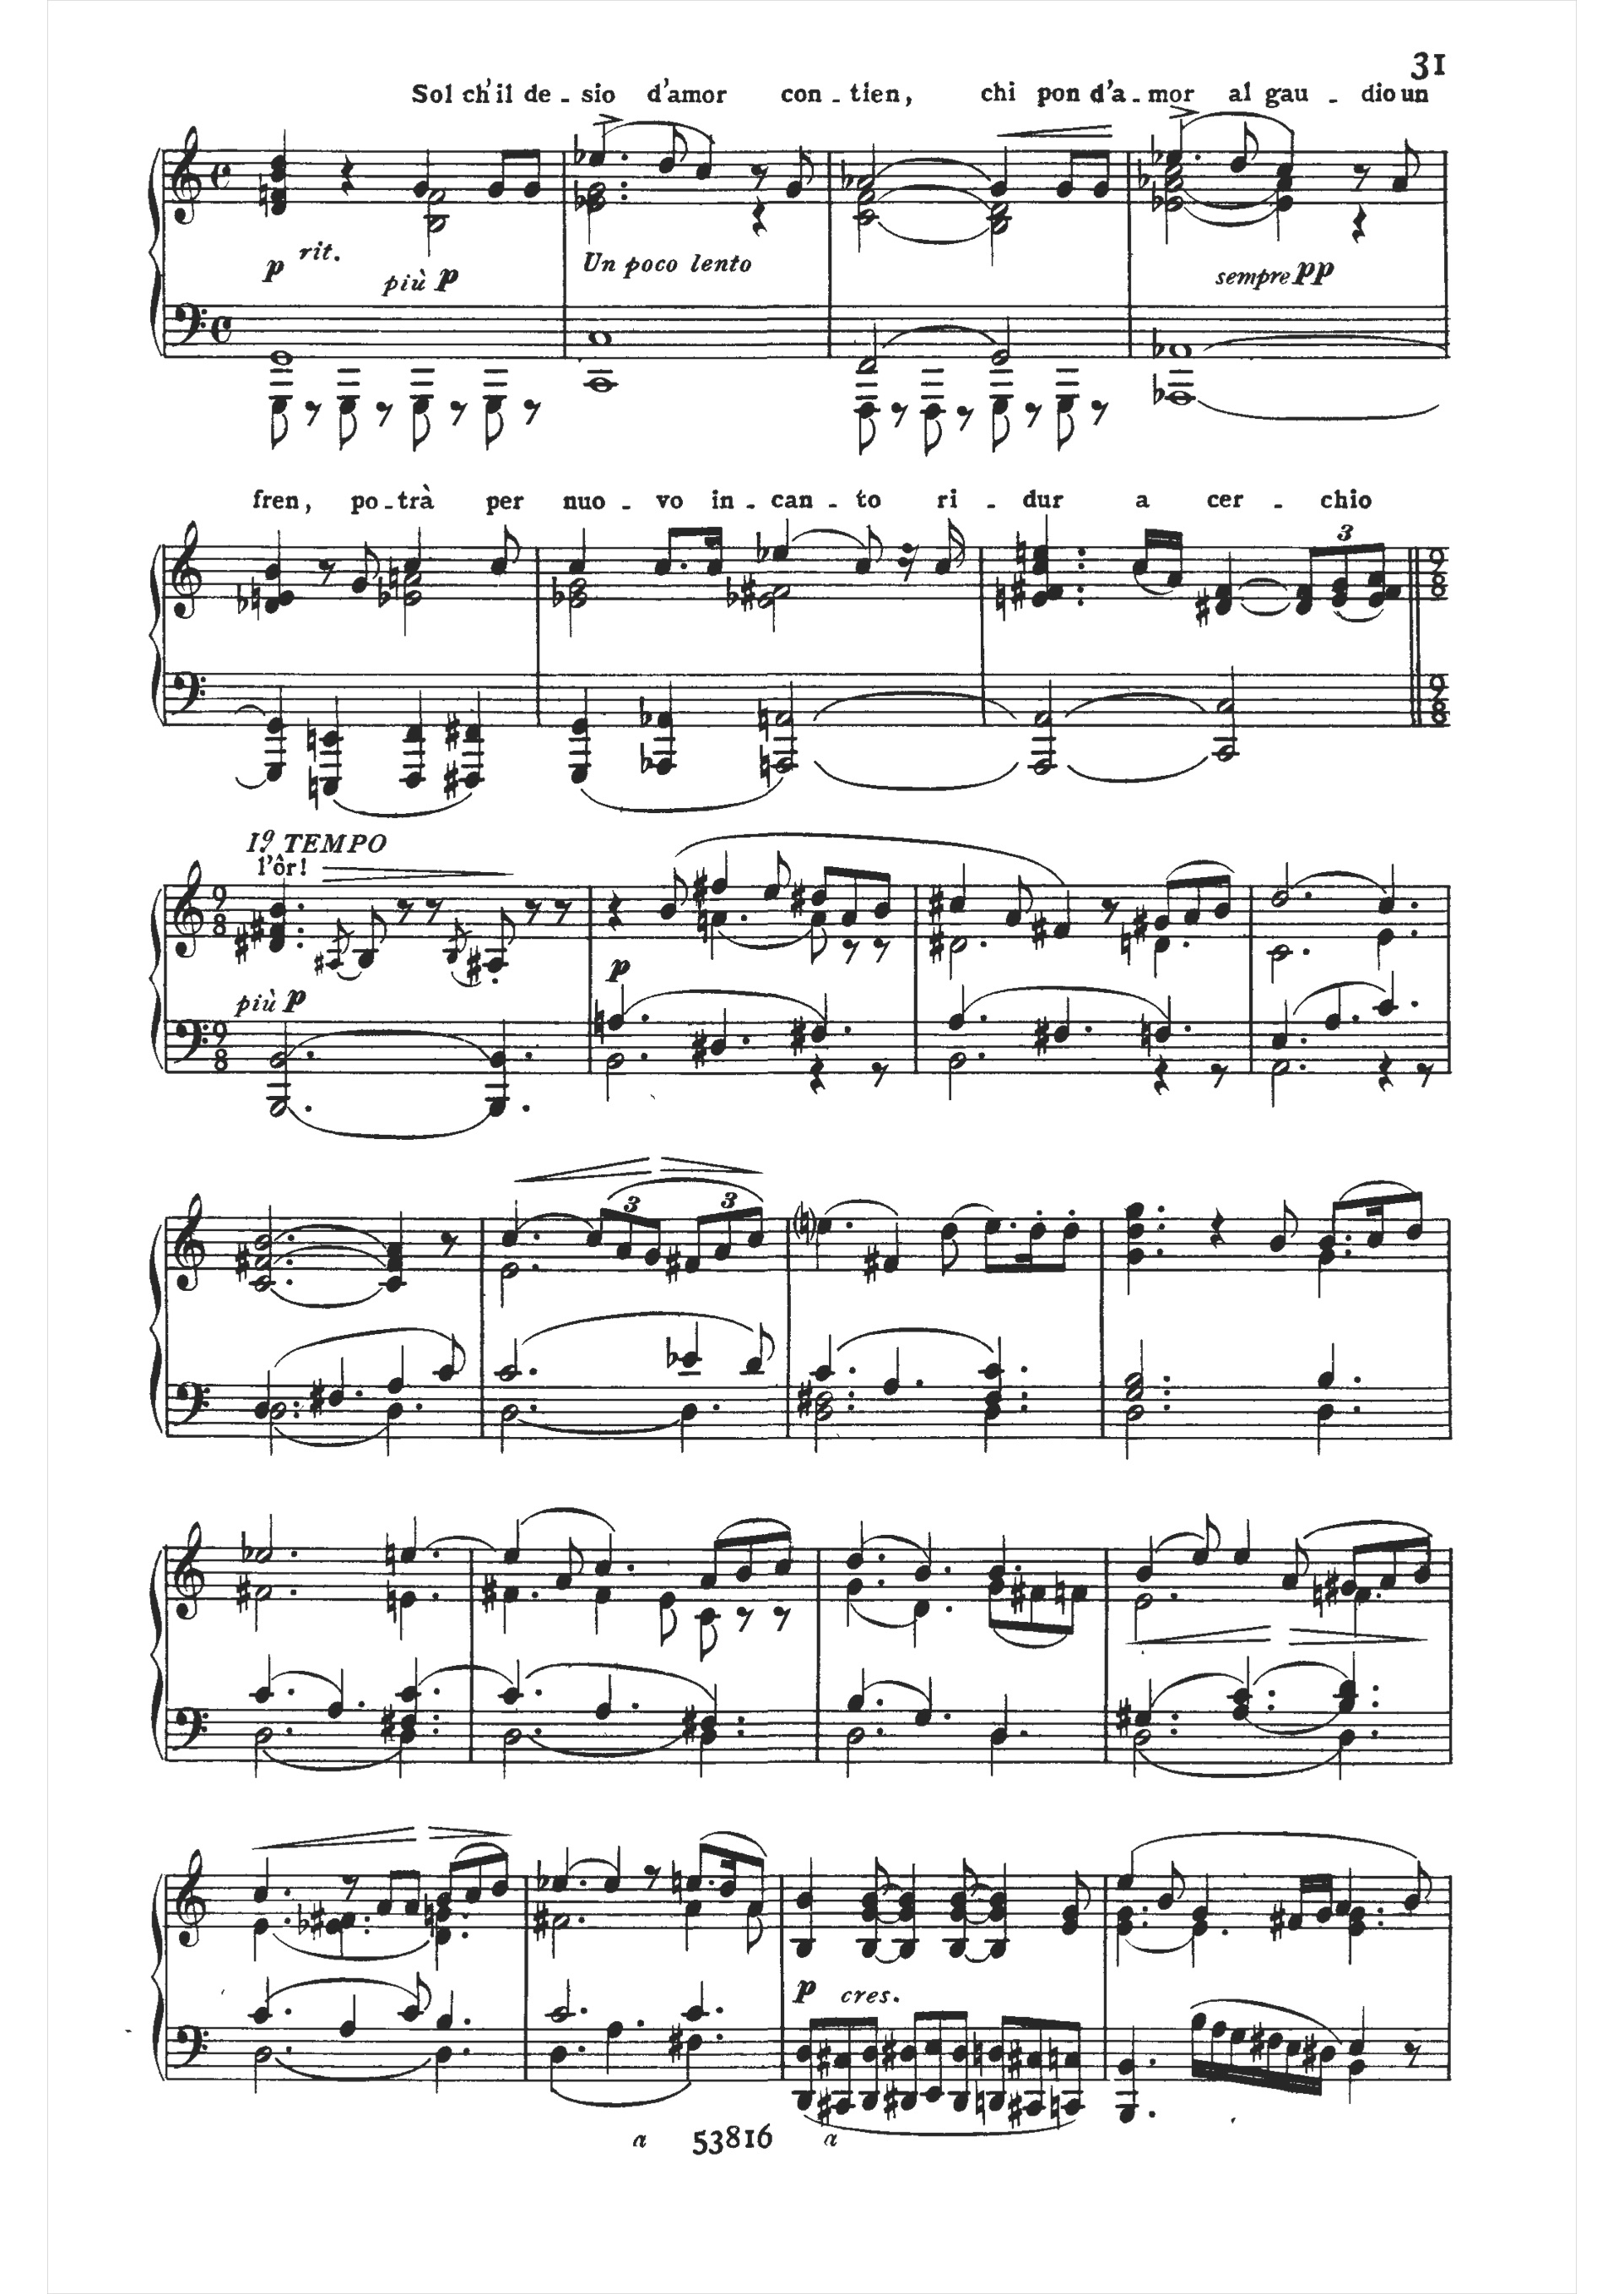9_8_time_sig: (206, 1016, 236, 1072), (207, 879, 232, 944)
bass_clef: (170, 1702, 216, 1765), (170, 666, 214, 730), (170, 2022, 218, 2073), (170, 1378, 214, 1433), (167, 299, 209, 353), (169, 1016, 211, 1071)
common_time_sig: (209, 156, 236, 195), (209, 311, 236, 350)
treble_clef: (169, 1840, 213, 1953), (170, 1192, 214, 1297), (165, 515, 207, 624), (169, 1515, 211, 1624), (169, 854, 209, 962), (167, 121, 206, 232)
